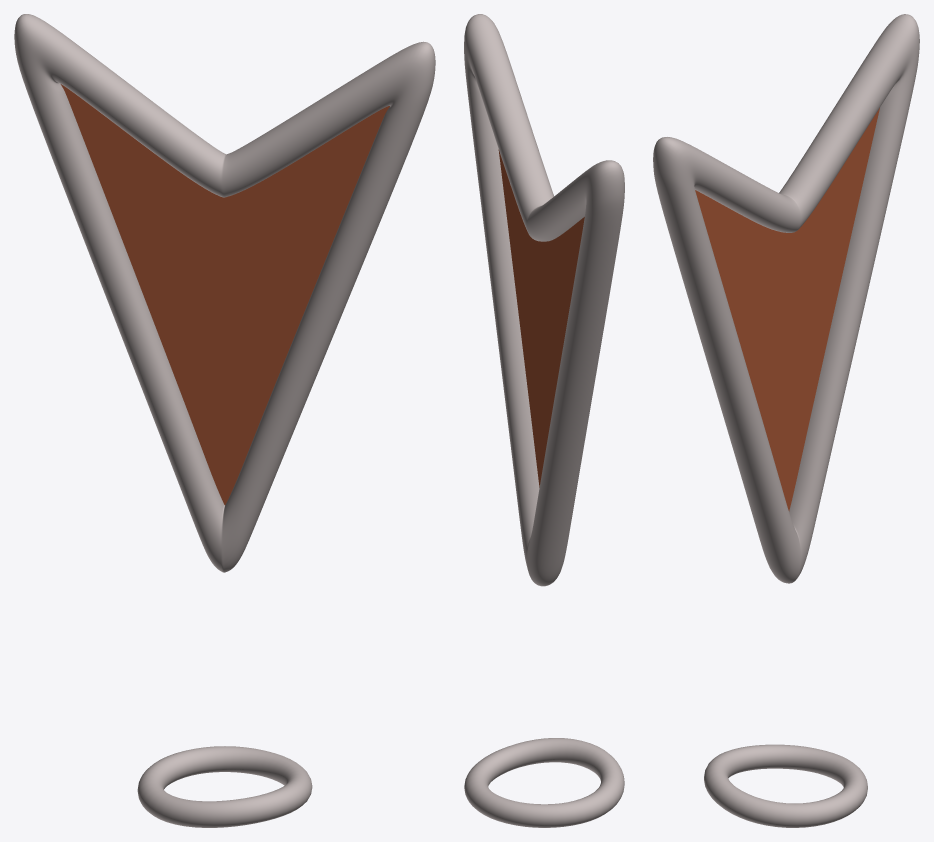
File: arrow_orange.obj
The picture shows the model from 3 angles, left to right: view 1: azimuth 30°, elevation 25°; view 2: azimuth 150°, elevation 25°; view 3: azimuth 270°, elevation 25°; orthographic projection. The views are drawn at different scales.
Parts seen in each view (by area): view 1: arrow; view 2: arrow; view 3: arrow.
Boxes of the visible parts, x1,y1,x2,y2 form: arrow: [14, 14, 435, 827]; arrow: [464, 14, 624, 827]; arrow: [653, 14, 919, 827].
Size of the model in its own units: 0.7385 by 1.86 by 0.6229.
1 material, 1 textured.
